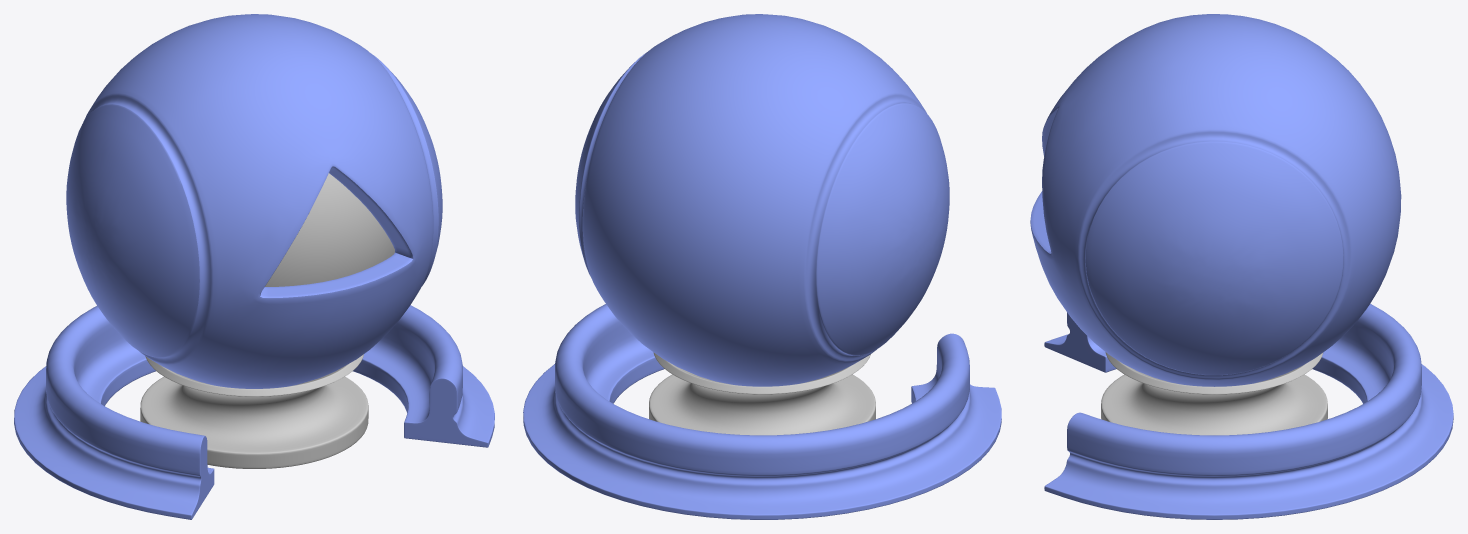
File: MaterialBall.glb
3 views of the same model, side by side, from view 1: azimuth 30°, elevation 25°; view 2: azimuth 150°, elevation 25°; view 3: azimuth 270°, elevation 25° (orthographic).
Visible parts, largest first — view 1: Shaderball.002, Ring.002, Sockel.003, Fillball.002; view 2: Shaderball.002, Ring.002, Sockel.003; view 3: Shaderball.002, Ring.002, Sockel.003.
Part boxes in pixels (bbox=[...]): Shaderball.002: bbox=[66, 14, 442, 388]; Ring.002: bbox=[14, 305, 494, 519]; Sockel.003: bbox=[140, 354, 368, 468]; Fillball.002: bbox=[265, 173, 394, 286]; Shaderball.002: bbox=[575, 14, 949, 386]; Ring.002: bbox=[523, 304, 1001, 519]; Sockel.003: bbox=[649, 352, 875, 435]; Shaderball.002: bbox=[1030, 14, 1401, 386]; Ring.002: bbox=[1044, 304, 1453, 519]; Sockel.003: bbox=[1101, 352, 1327, 435].
Size of the model in its own units: 0.1161 by 0.1038 by 0.1028.
